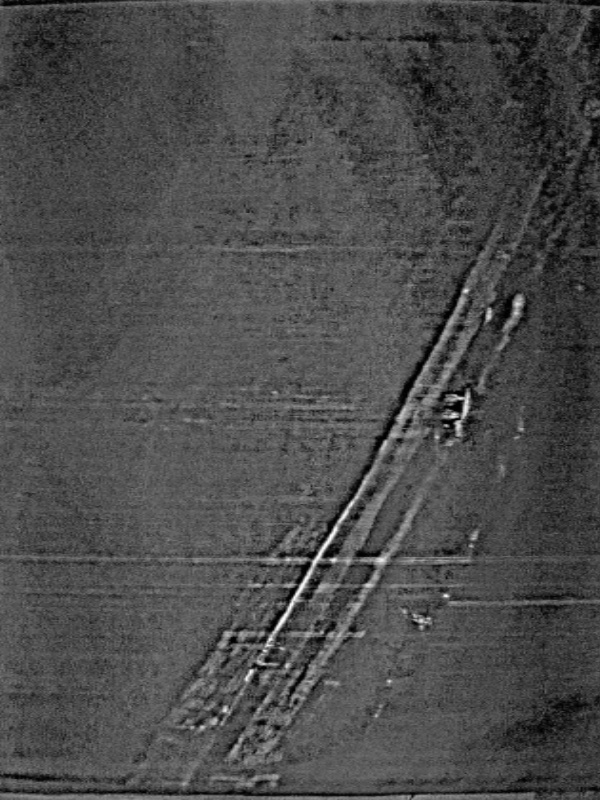splice_vulcanized: (124, 4, 600, 788)
